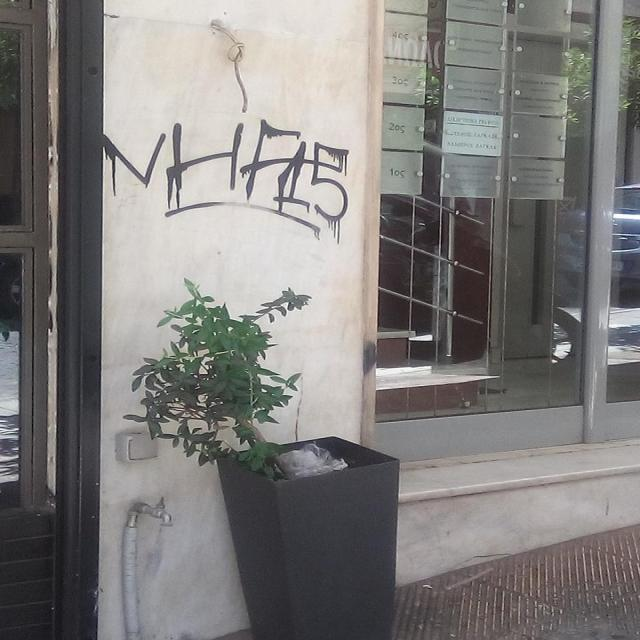nonspitting: (104, 120, 350, 231)
